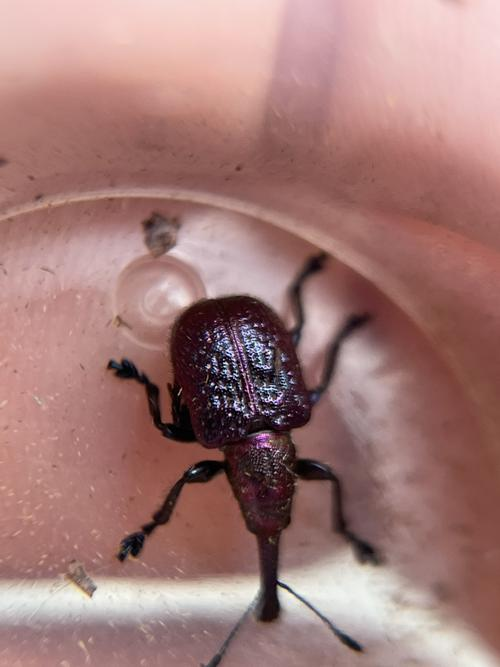Curculionidae: (106, 251, 386, 667)
